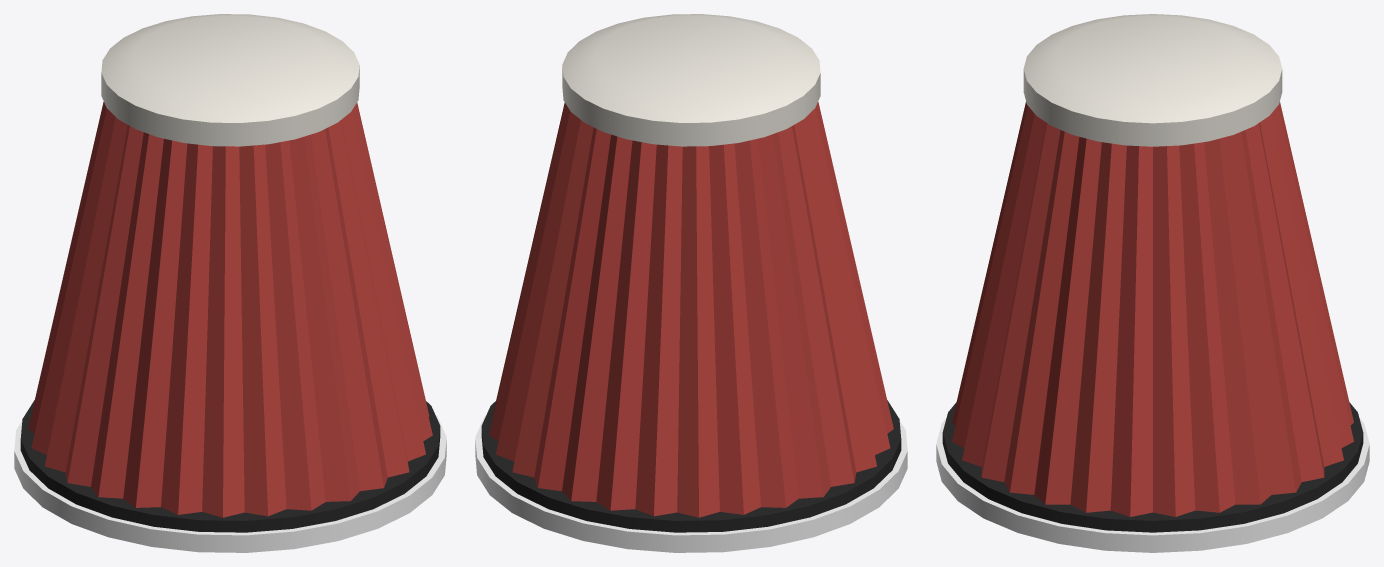
The picture shows the model from 3 angles, left to right: view 1: azimuth 30°, elevation 25°; view 2: azimuth 150°, elevation 25°; view 3: azimuth 270°, elevation 25°; orthographic projection.
Visible parts, largest first — view 1: lod0; view 2: lod0; view 3: lod0.
Part boxes in pixels (x1=…): lod0: x1=14, y1=14, x2=446, y2=552; lod0: x1=475, y1=14, x2=907, y2=552; lod0: x1=936, y1=14, x2=1369, y2=552.
Size of what is drawn, in the model's own units: 0.134 by 0.14 by 0.134.
